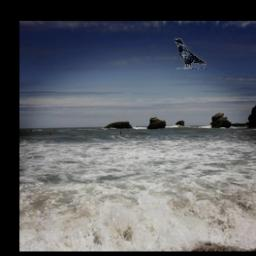Crow: (174, 39, 206, 70)
